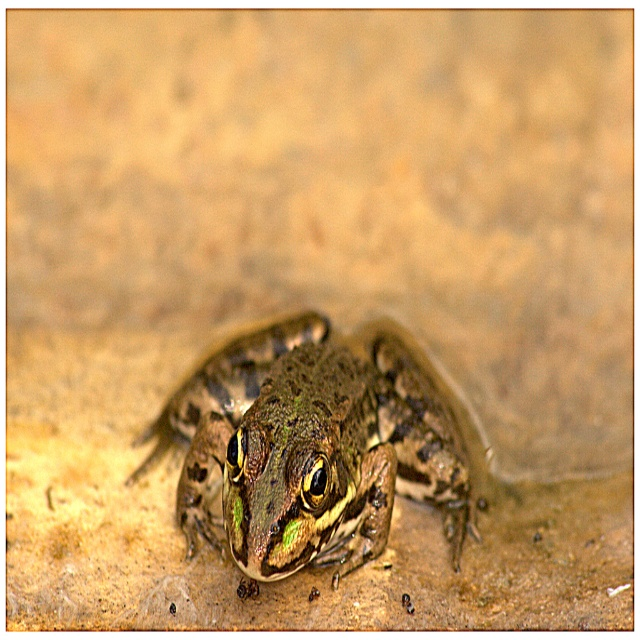Frog: (124, 308, 476, 585)
